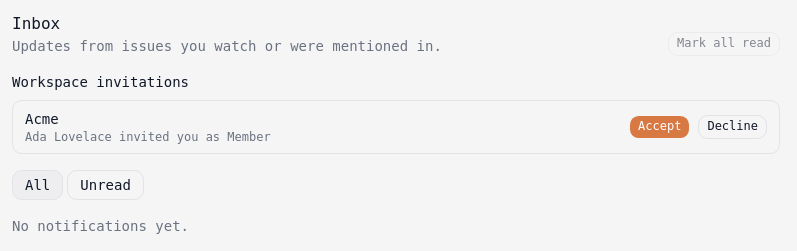
Scenario: inbox › accepting an invitation removes it and refreshes workspaces
The width and height of the screenshot is (797, 251).
expect the text "Acme" is shown: met, box [25,111,59,127]
Click the button "Accept": x=660, y=127 [629,115,690,139]
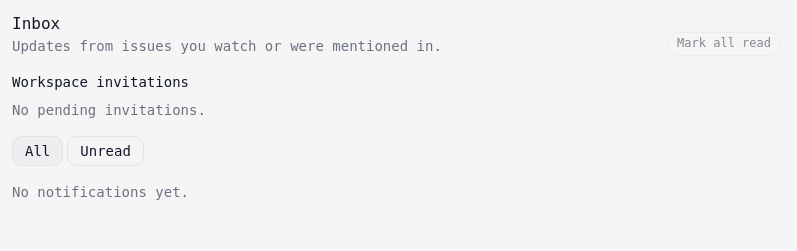
expect the text "Acme" is gone: met
